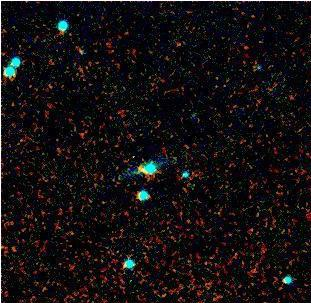star: (128, 154, 158, 184)
